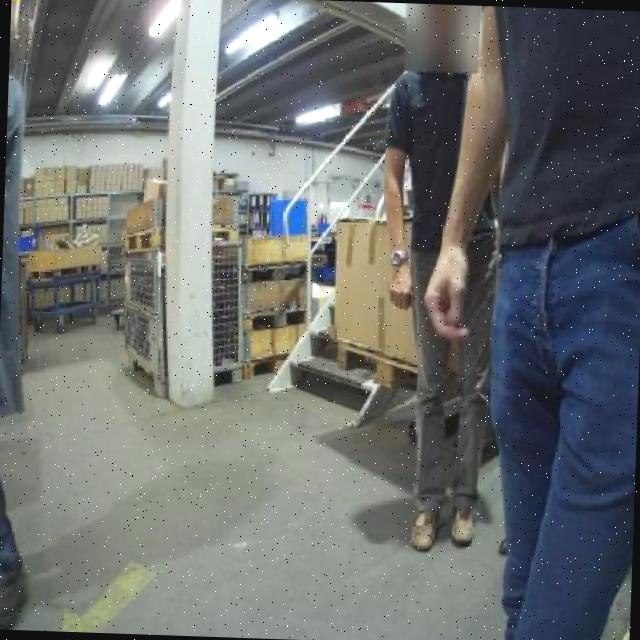pallet: (328, 320, 441, 406)
